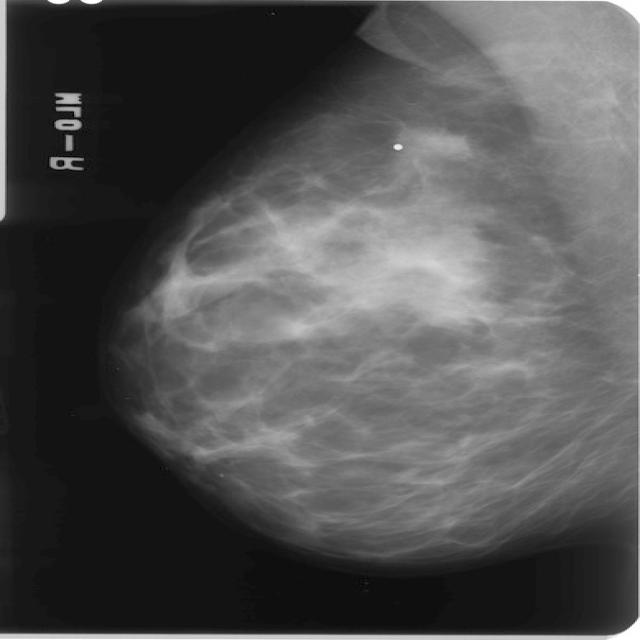tumour: (402, 128, 466, 160)
